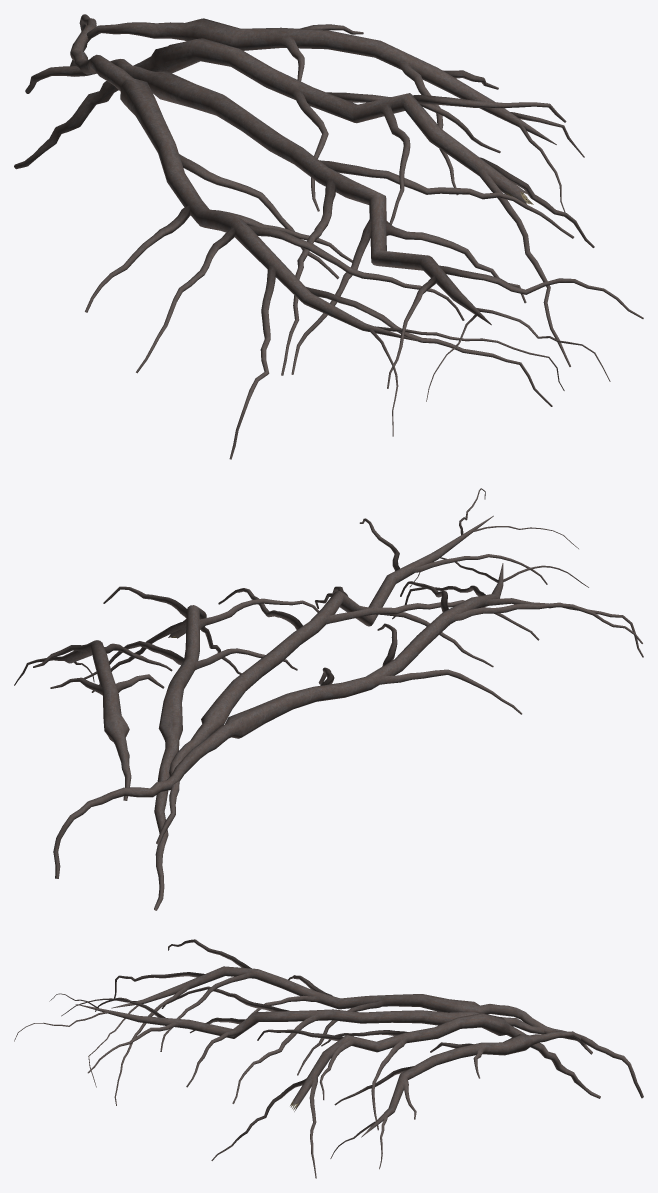
3 renders of one model, top to bottom at view 1: azimuth 30°, elevation 25°; view 2: azimuth 150°, elevation 25°; view 3: azimuth 270°, elevation 25°, orthographic. The views are drawn at different scales.
Visible parts, largest first — view 1: SM_Roots_03_LOD0; view 2: SM_Roots_03_LOD0; view 3: SM_Roots_03_LOD0.
Boxes of the visible parts, left/top/right/bottom form: SM_Roots_03_LOD0: left=14, top=14, right=643, bottom=459; SM_Roots_03_LOD0: left=14, top=488, right=643, bottom=910; SM_Roots_03_LOD0: left=14, top=939, right=643, bottom=1178.
Size of the model in its own units: 3.89 by 1.17 by 5.85.
1 material, 1 textured.
